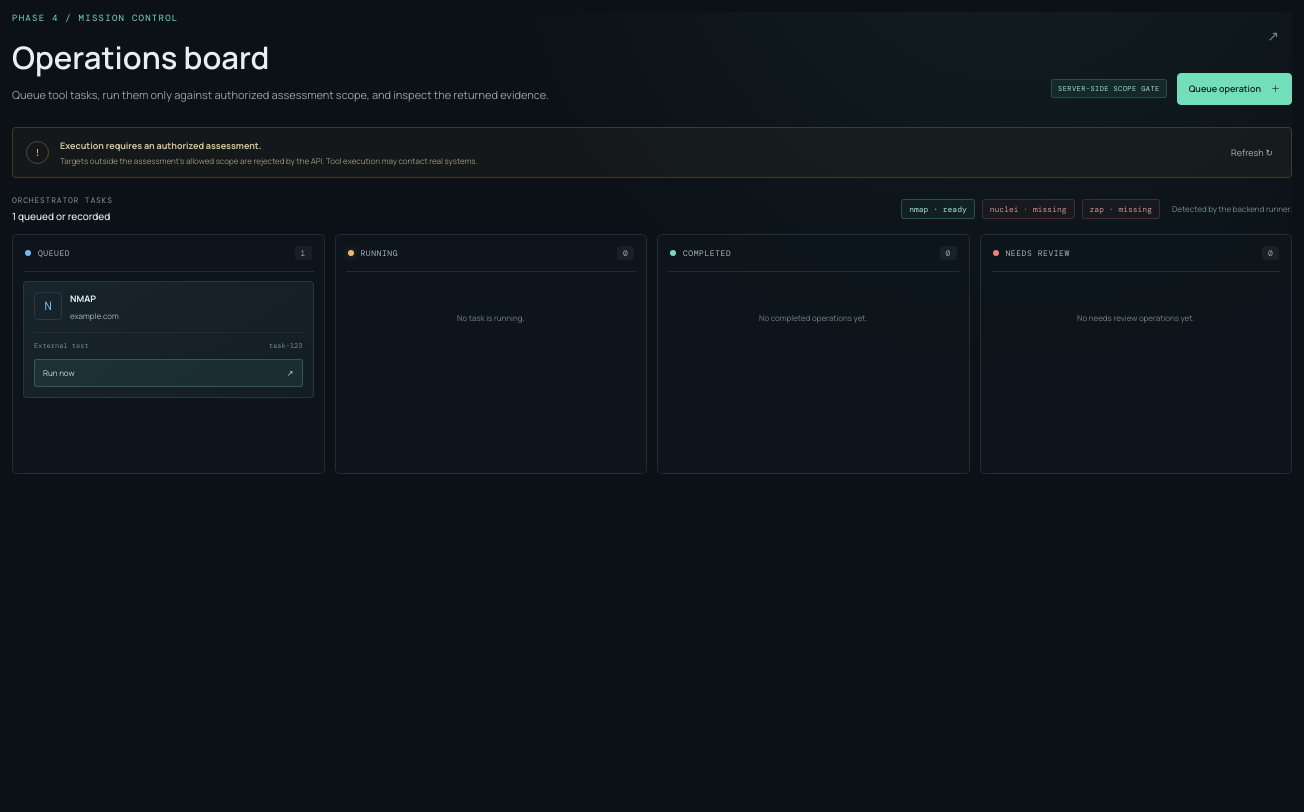
it: shows queued task and requires confirmation before executing it
The width and height of the screenshot is (1304, 812).
Click the button "Run now ↗".
click(59, 373)  # box x1=34 y1=359 x2=302 y2=387
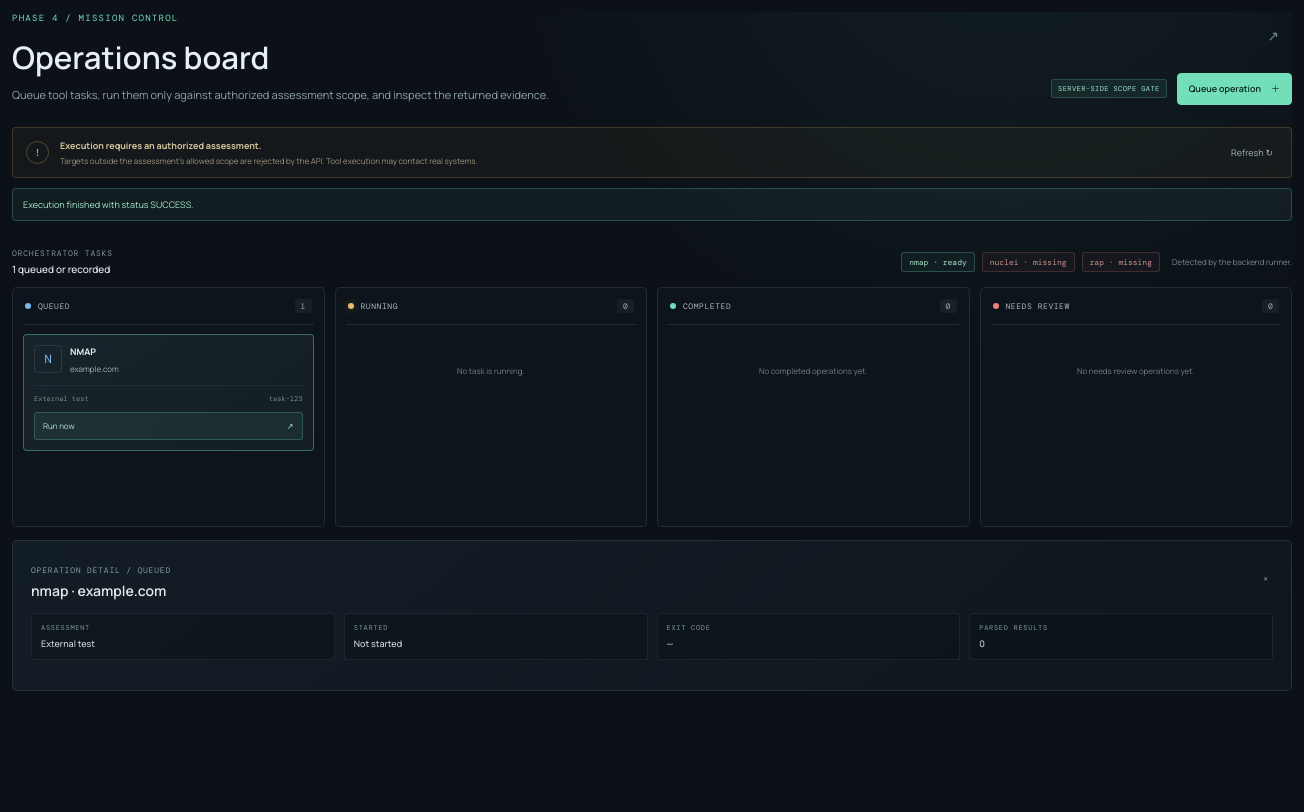
Expected: the text "Execution finished with status SUCCESS." is shown, x1=12 y1=188 x2=1292 y2=221
